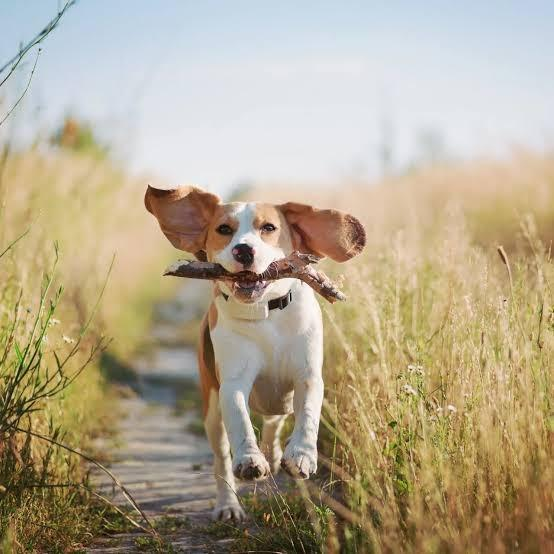adult_dog: (141, 183, 368, 519)
